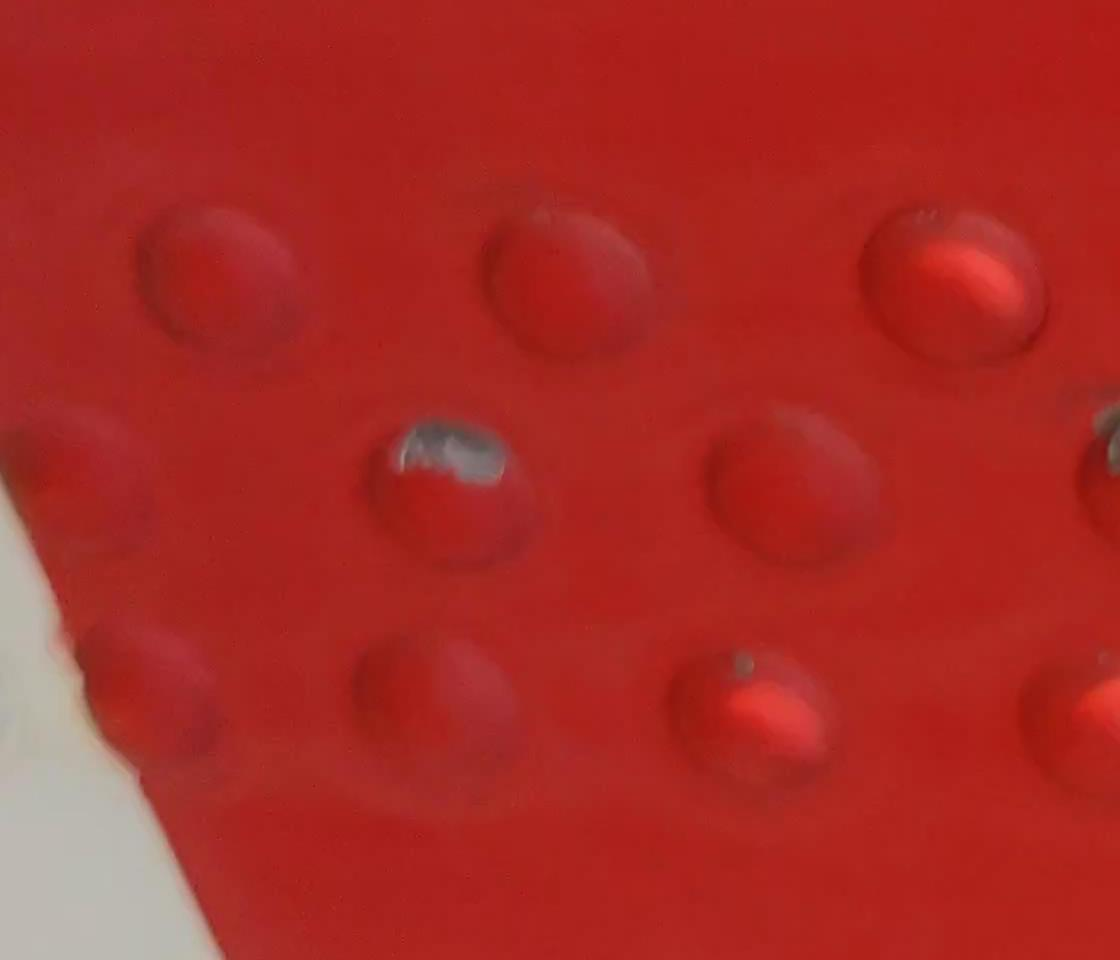paint_peel: (392, 419, 514, 491), (725, 643, 764, 687)
